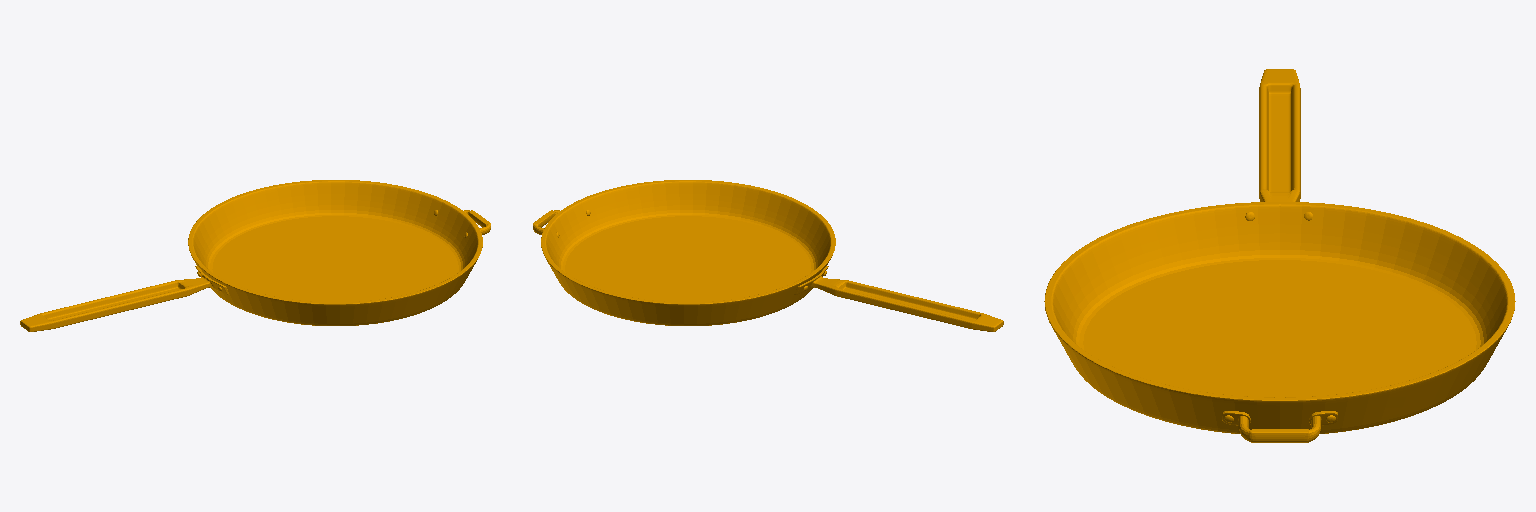
URDF robot description (pan):
<robot name="pan">
    <link name="pan">
        <visual>
            <geometry>
                <mesh filename="pan.stl" />
            </geometry>
        </visual>
        <collision>
            <geometry>
                <mesh filename="pan.stl"/>
            </geometry>
        </collision>
    </link>
</robot>

--- Facts derived from the render (not from the file) ---
The picture shows the robot from 3 angles, left to right: view 1: azimuth 30°, elevation 25°; view 2: azimuth 150°, elevation 25°; view 3: azimuth 270°, elevation 25°; orthographic projection.
Robot: pan — 1 links, 0 joints (none); root link pan; default pose: every joint at zero.
Visible links, largest first — view 1: pan; view 2: pan; view 3: pan.
Link boxes in pixels (x1,y1,x2,y2): pan: [20, 180, 490, 331]; pan: [533, 180, 1003, 331]; pan: [1044, 69, 1515, 442].
Size in the robot's own frame: 0.4055 by 0.2263 by 0.0254 metres.
Meshes: 1 distinct files referenced, 1 mesh visuals loaded (1 binary STL).